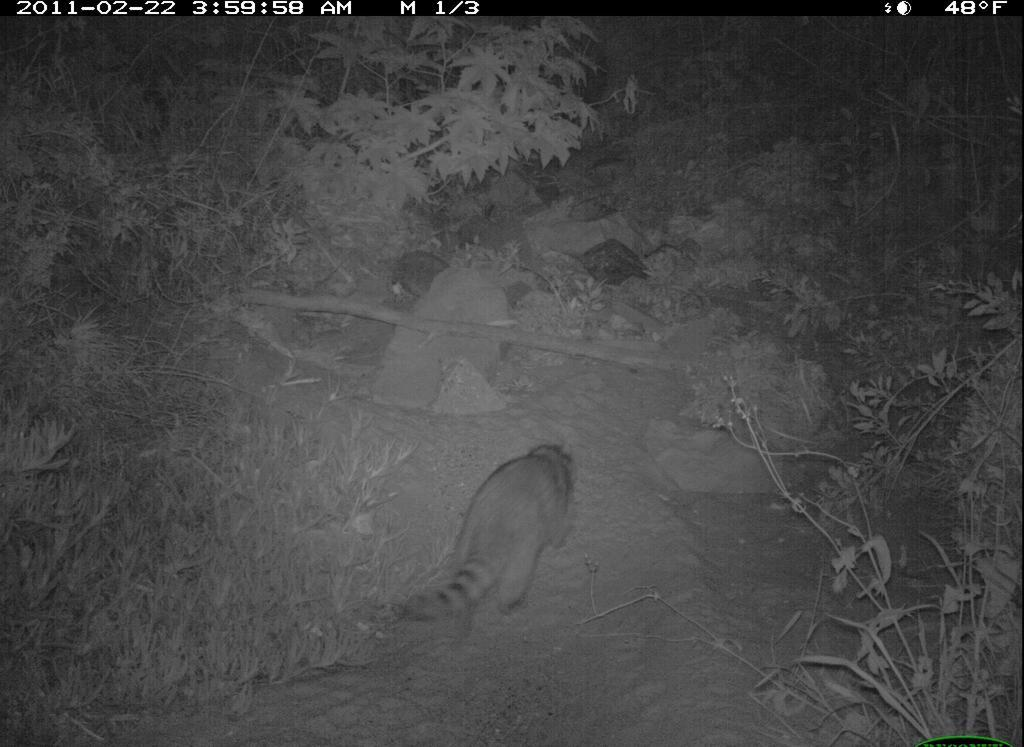raccoon: (383, 428, 588, 647)
